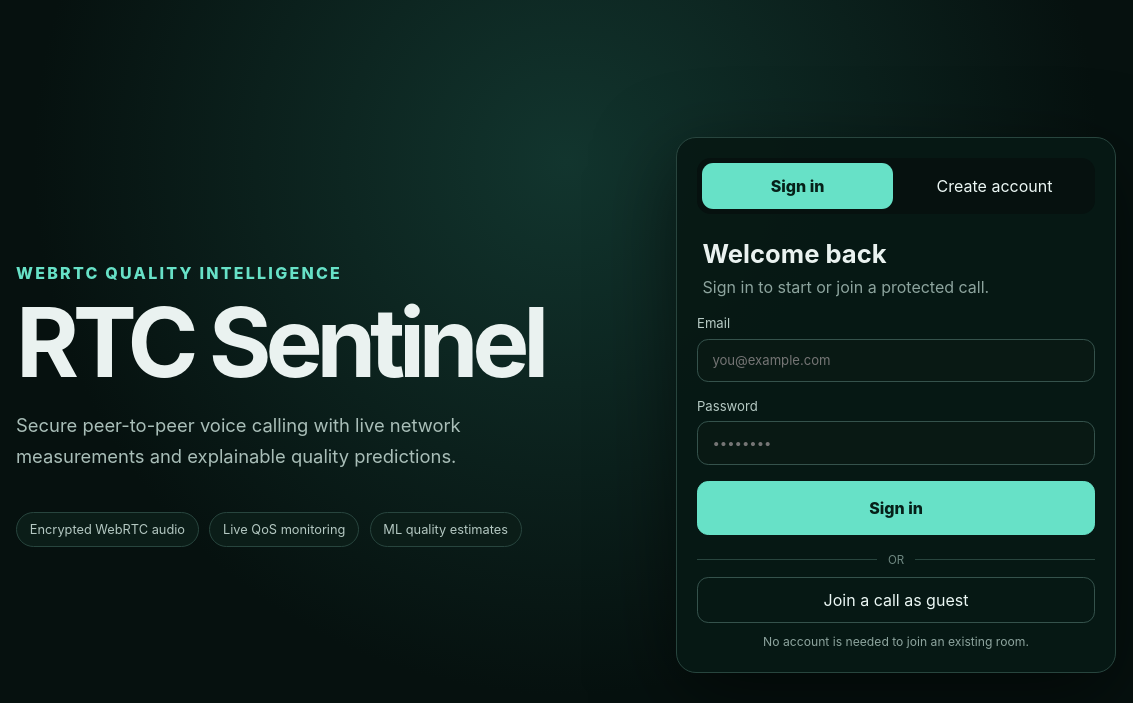
Test: allows anonymous users to enter join-only guest mode
Click the button "Join a call as guest" at (896, 600), box [697,577,1095,623]
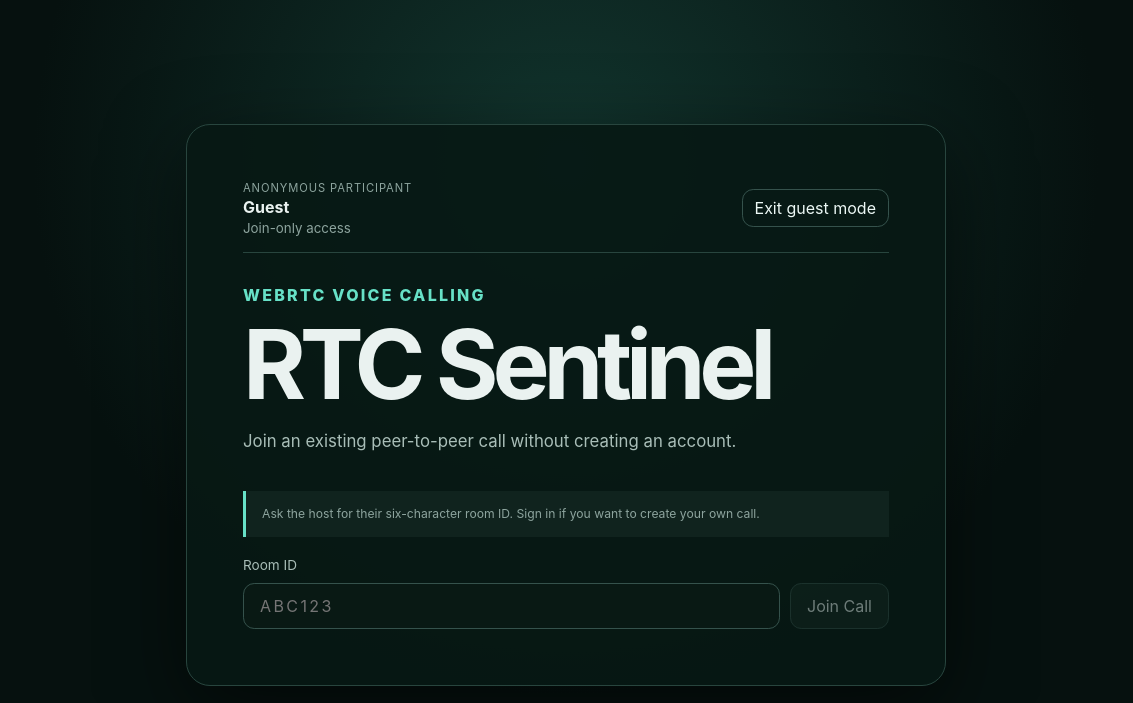
Now the text "Guest" is shown, box [243,197,289,217]
Now the text "Join-only access" is shown, box [243,220,351,236]
Now the button "Join Call" is shown, box [790,583,889,629]
